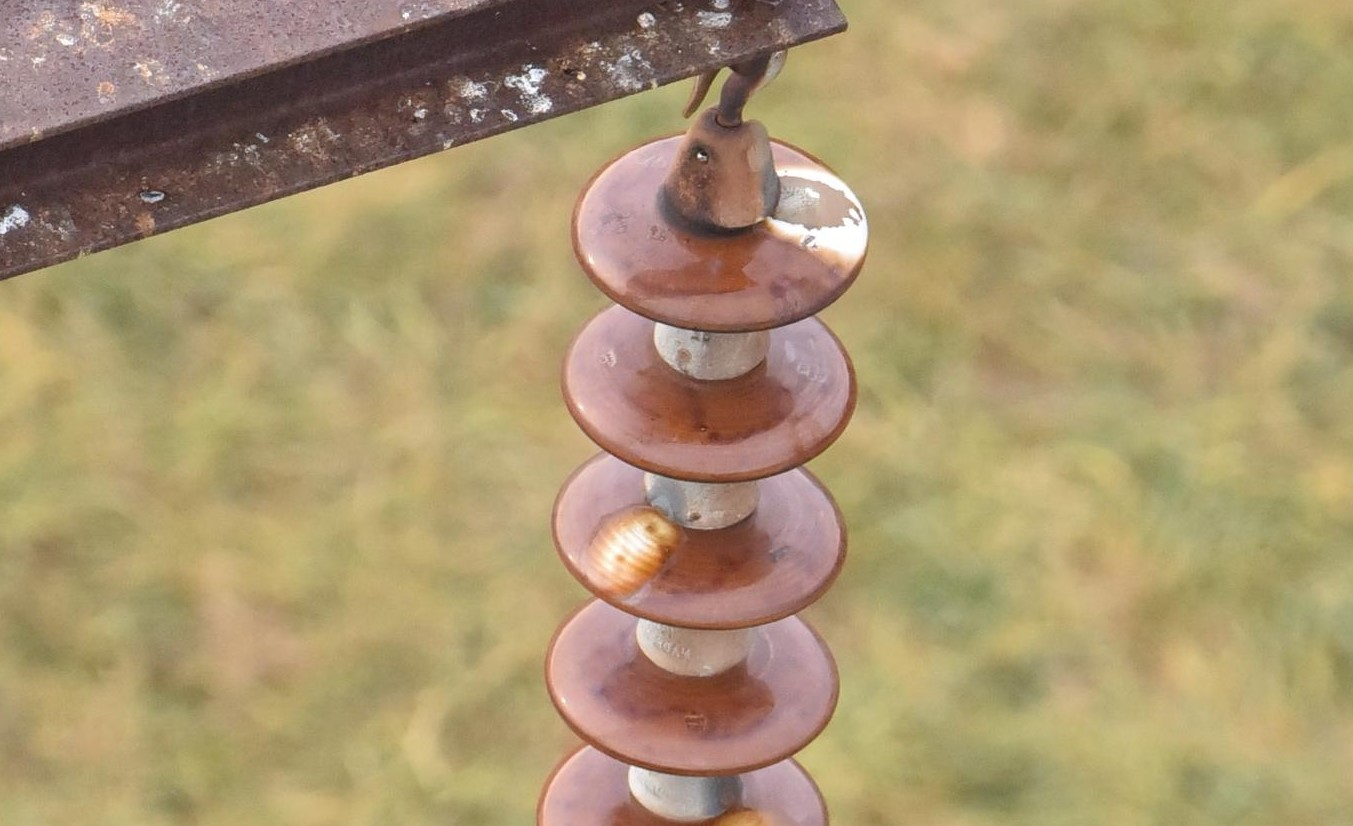Insulator flashover: (562, 121, 882, 336), (539, 434, 848, 634)
